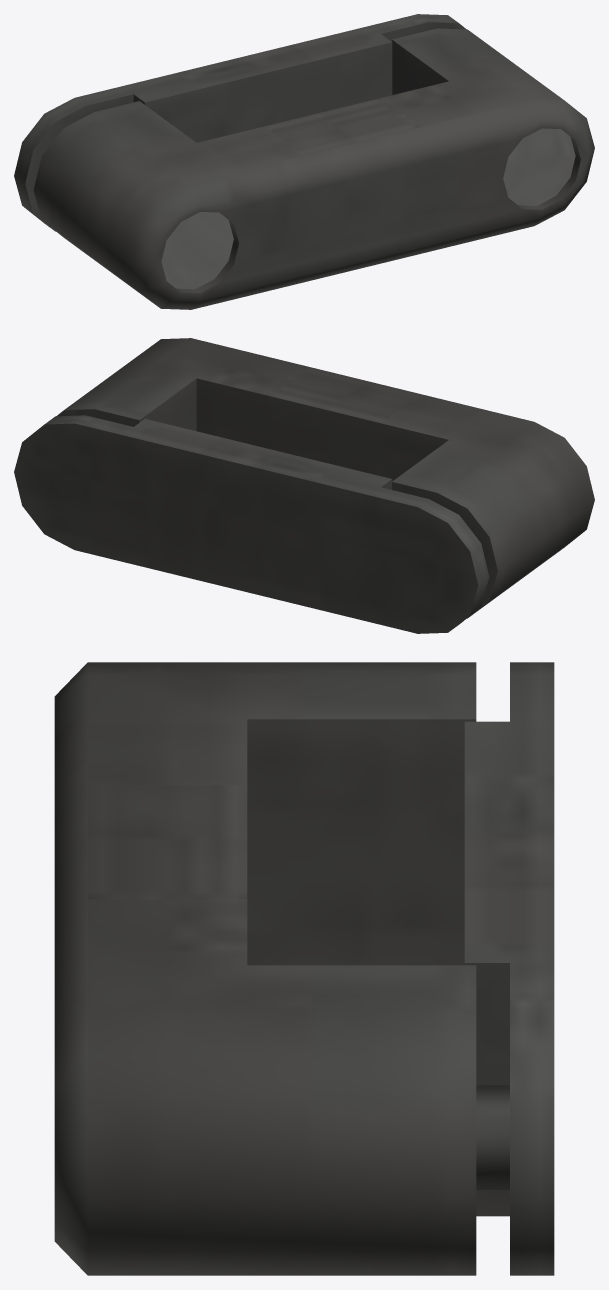
Rendered from cable_double_mount.gltf.
3 renders of one model, top to bottom at view 1: azimuth 30°, elevation 25°; view 2: azimuth 150°, elevation 25°; view 3: azimuth 270°, elevation 25°, orthographic. The views are drawn at different scales.
Parts seen in each view (by area): view 1: cable_double_mount; view 2: cable_double_mount; view 3: cable_double_mount.
Boxes of the visible parts, bbox=[...] form: cable_double_mount: bbox=[14, 14, 594, 309]; cable_double_mount: bbox=[14, 338, 594, 633]; cable_double_mount: bbox=[54, 662, 554, 1275].
Size of the model in its own units: 0.0556 by 0.0145 by 0.0259.
1 material, 1 textured.
